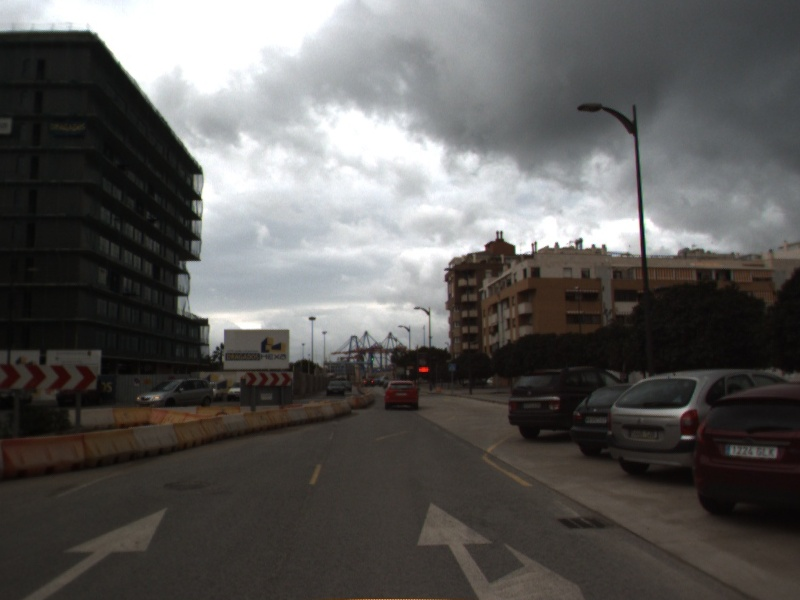STRAIGHT: (15, 505, 169, 600)
STRAIGHT_RIGHT: (414, 499, 590, 600)
